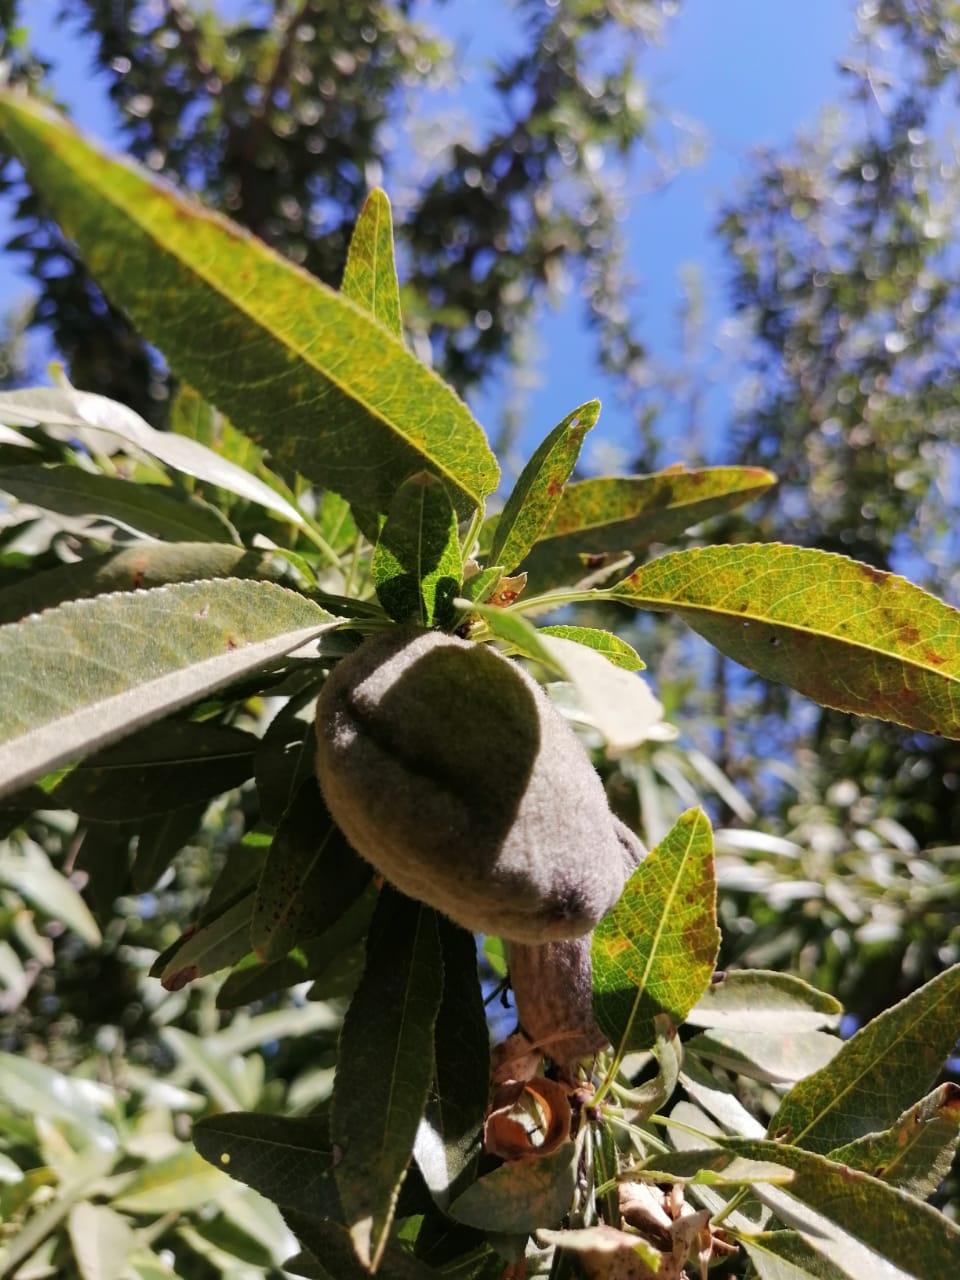rouille: (1, 87, 506, 537), (1, 575, 351, 794), (610, 540, 960, 741), (457, 463, 776, 579), (772, 964, 960, 1158), (592, 806, 724, 1060), (488, 398, 598, 575)
